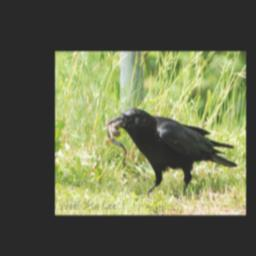Crow: (105, 108, 236, 195)
